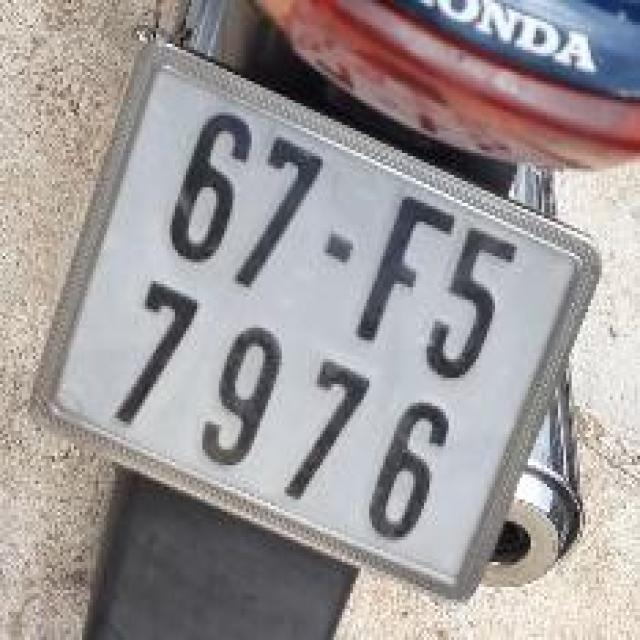5: (407, 209, 538, 408)
6: (151, 91, 268, 280), (352, 380, 471, 558)
7: (221, 117, 342, 314), (265, 335, 388, 521), (100, 264, 219, 450)
9: (181, 299, 302, 490)
F: (341, 181, 468, 368)
